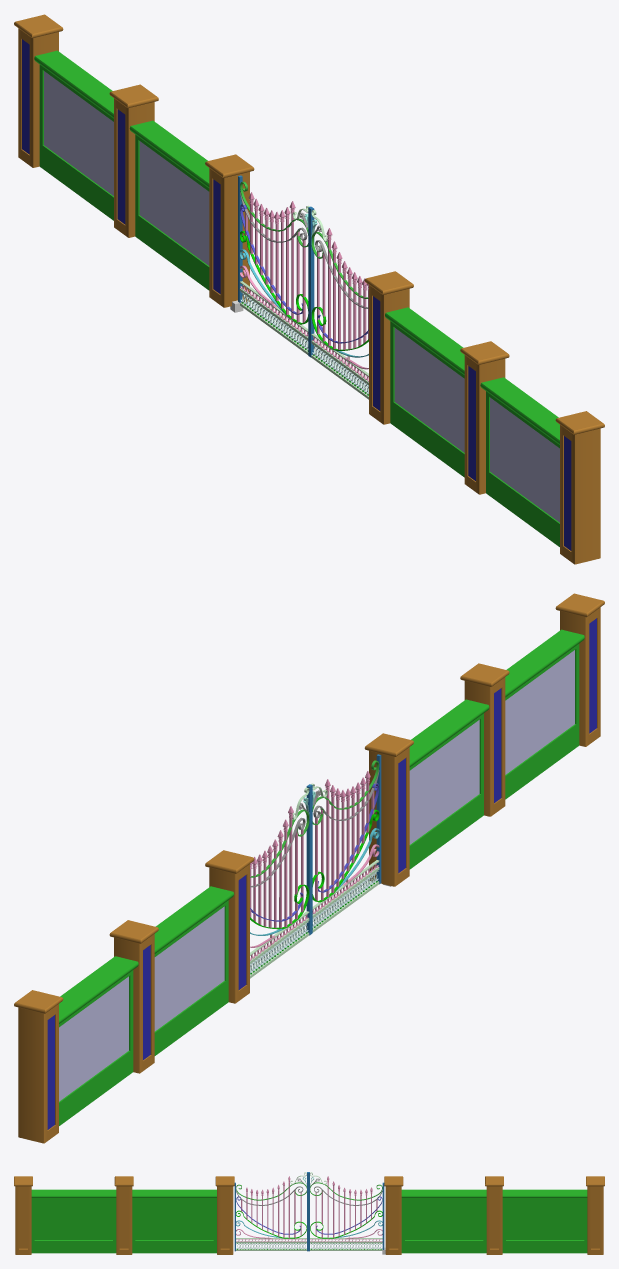
The model's file is poen1.gltf.
3 renders of one model, top to bottom at view 1: azimuth 30°, elevation 25°; view 2: azimuth 150°, elevation 25°; view 3: azimuth 270°, elevation 25°, orthographic. The views are drawn at different scales.
Visible parts, largest first — view 1: wall1, porton2, Porton; view 2: wall1, Porton, porton2; view 3: wall1, porton2, Porton.
Part boxes in pixels (x1=…): wall1: x1=14, y1=14, x2=604, y2=564; porton2: x1=238, y1=175, x2=312, y2=356; Porton: x1=309, y1=207, x2=368, y2=399; wall1: x1=14, y1=593, x2=604, y2=1143; Porton: x1=308, y1=754, x2=381, y2=933; porton2: x1=250, y1=785, x2=311, y2=978; wall1: x1=14, y1=1176, x2=604, y2=1254; porton2: x1=308, y1=1172, x2=384, y2=1251; Porton: x1=234, y1=1172, x2=308, y2=1251.
Size of what is drawn, in the model's own units: 7.51 by 35.49 by 233.
